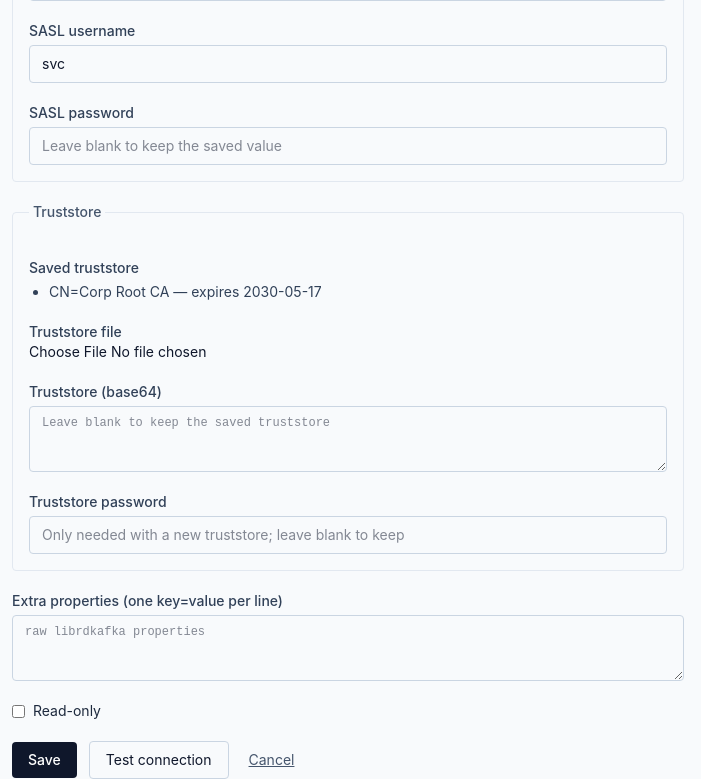
Test: ClusterForm test connection › passes ?existing=<name> in edit mode
(page scrolled)
Click the button "Test connection": (159, 760) [89,741,229,778]
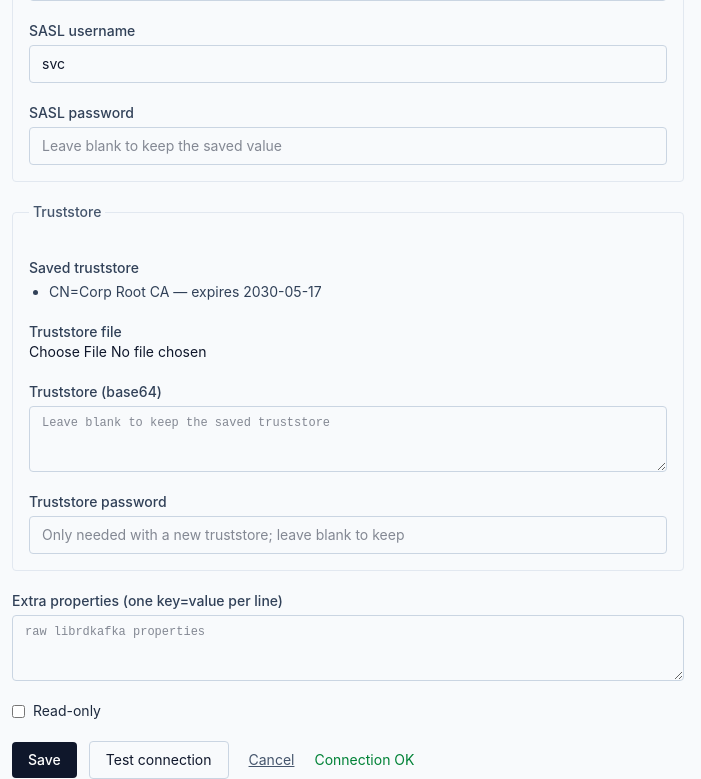
Expected: the text "Connection OK" is shown, [314,751,414,768]
